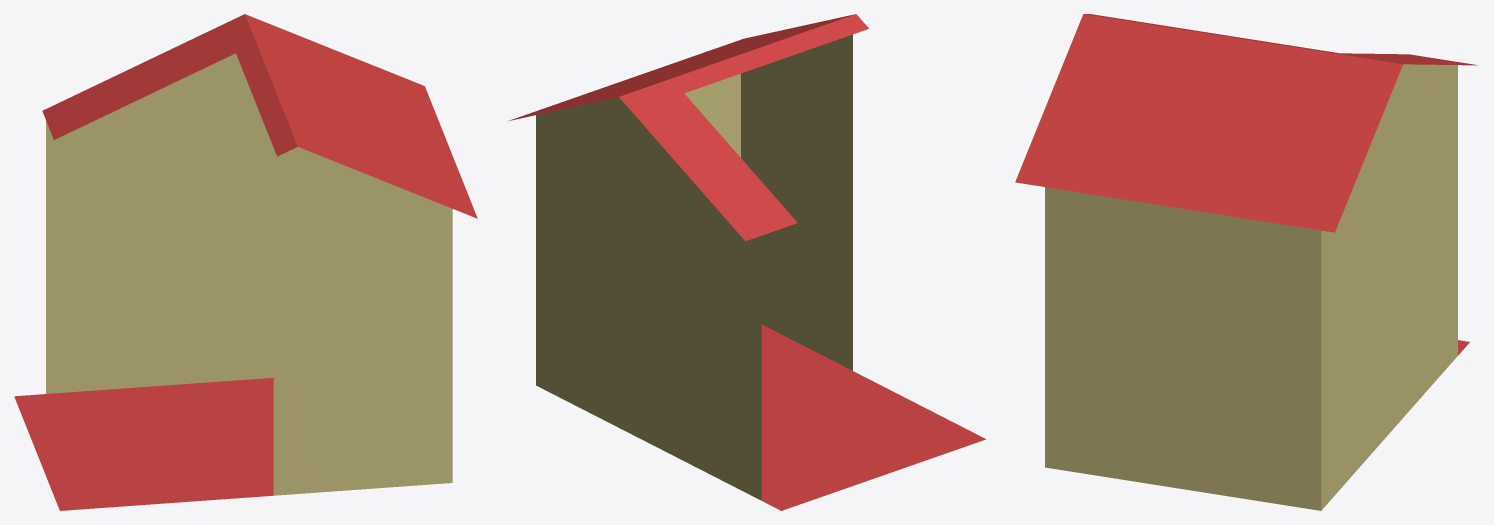
3 renders of one model, left to right at view 1: azimuth 30°, elevation 25°; view 2: azimuth 150°, elevation 25°; view 3: azimuth 270°, elevation 25°, orthographic. The views are drawn at different scales.
Size of the model in its own units: 11.45 by 9.99 by 9.06.
